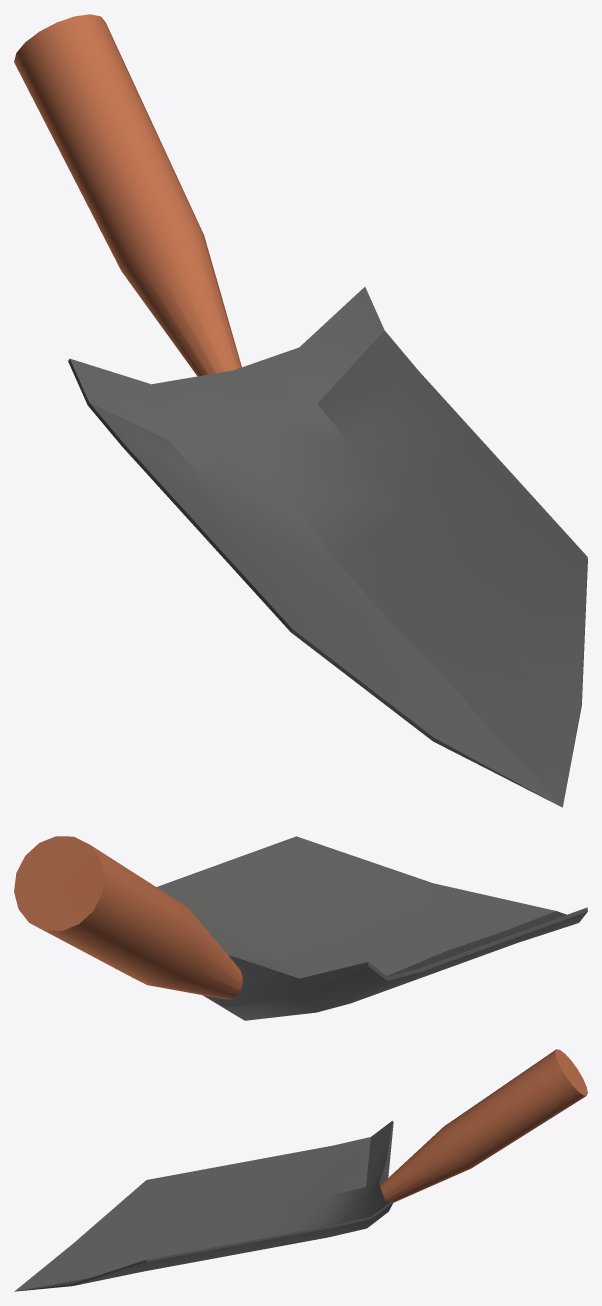
Rendered from schepje.fbx.
The picture shows the model from 3 angles, top to bottom: view 1: azimuth 30°, elevation 25°; view 2: azimuth 150°, elevation 25°; view 3: azimuth 270°, elevation 25°; orthographic projection. The views are drawn at different scales.
Visible parts, largest first — view 1: Cylinder; view 2: Cylinder; view 3: Cylinder.
Boxes of the visible parts, left/top/right/bottom form: Cylinder: left=14, top=14, right=587, bottom=807; Cylinder: left=14, top=836, right=587, bottom=1020; Cylinder: left=14, top=1049, right=587, bottom=1291.
Size of the model in its own units: 0.1565 by 0.218 by 0.4731.
